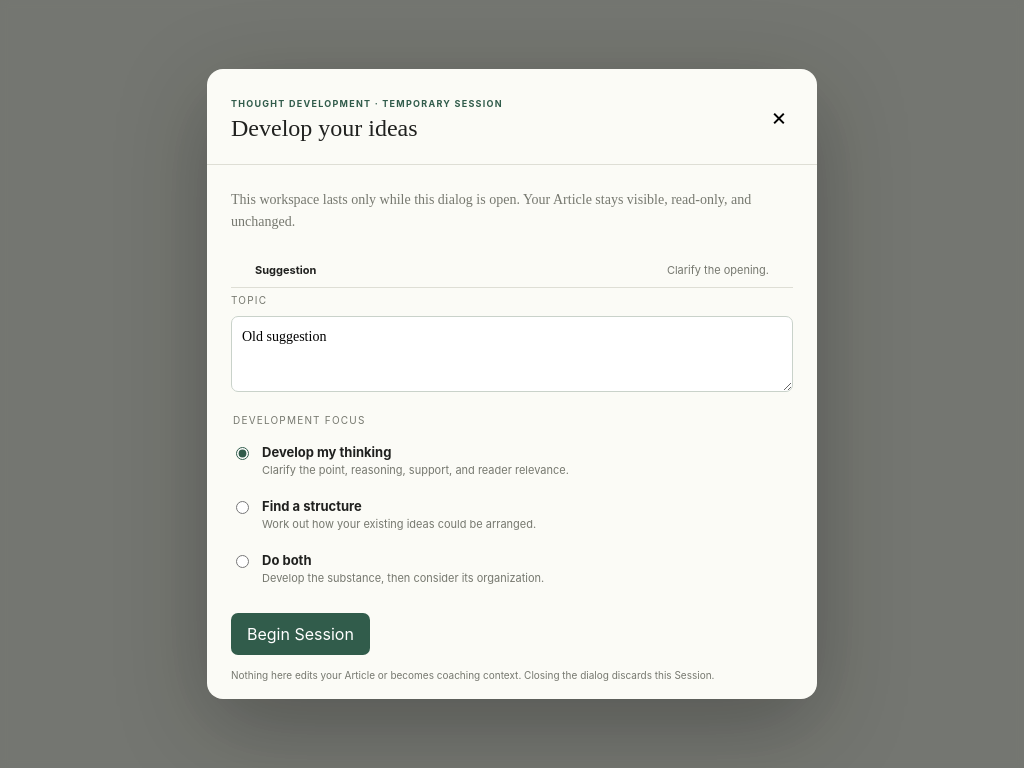
Test: Thought Development dialog › explains stale context and does not begin a corrupted Session
Click the button "Begin Session" at (300, 634), box [231,613,370,655]
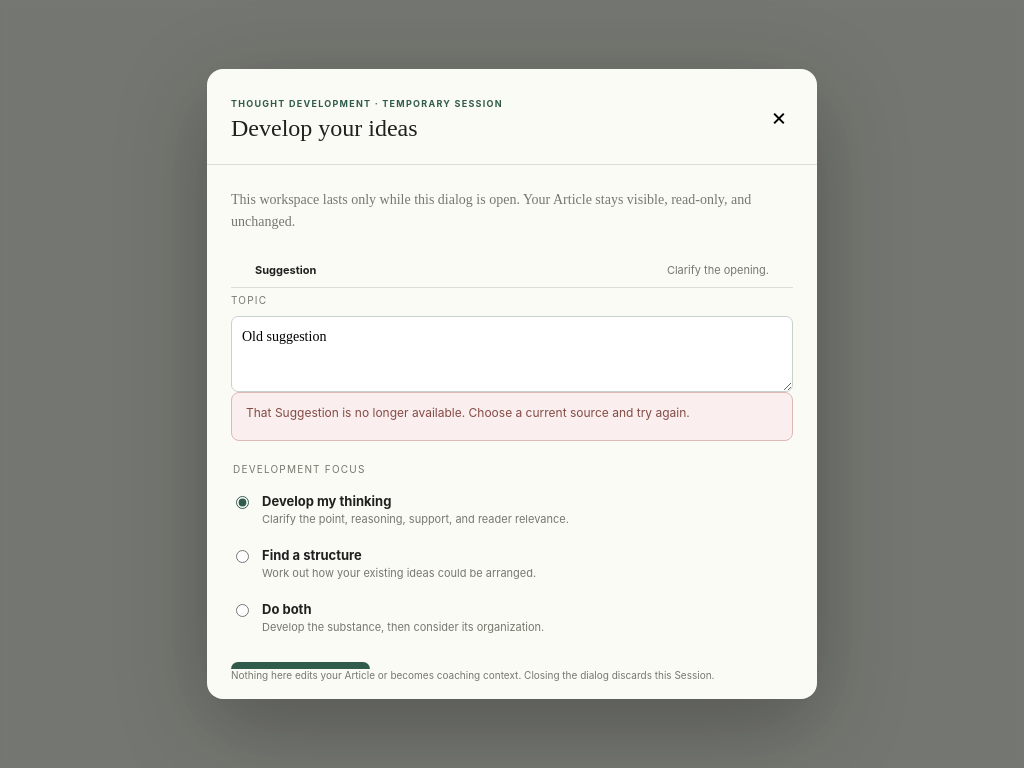
Check: the message "That Suggestion is no longer available. Choose a current source and try again." is shown, box [231,392,793,440]
